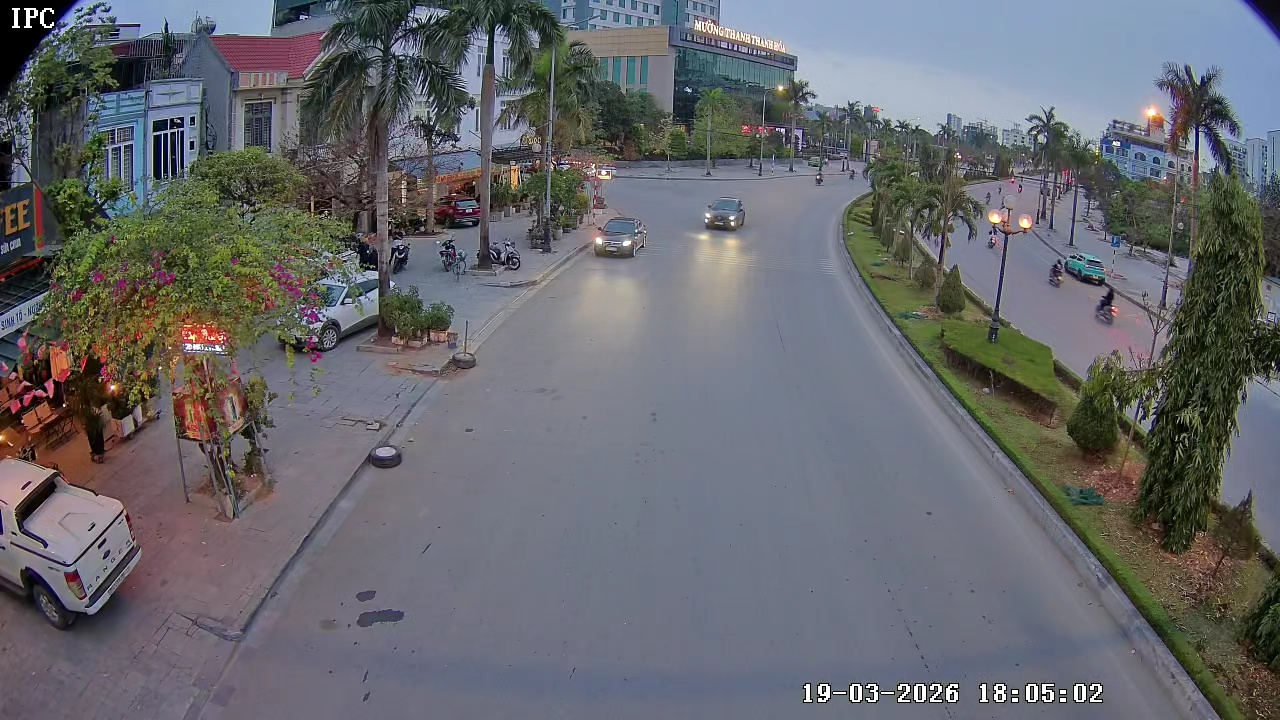car: (0, 457, 142, 629), (593, 211, 648, 258), (1048, 250, 1110, 290), (703, 193, 746, 231)
pedestrian: (988, 213, 1008, 252)
